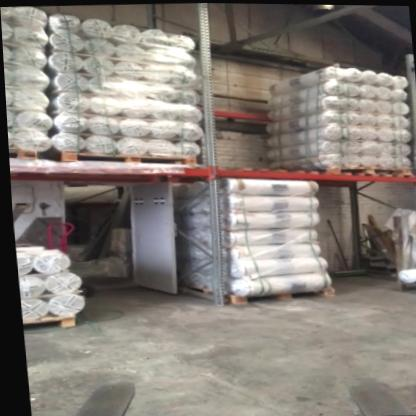vertical_damage: (211, 270, 229, 298)
